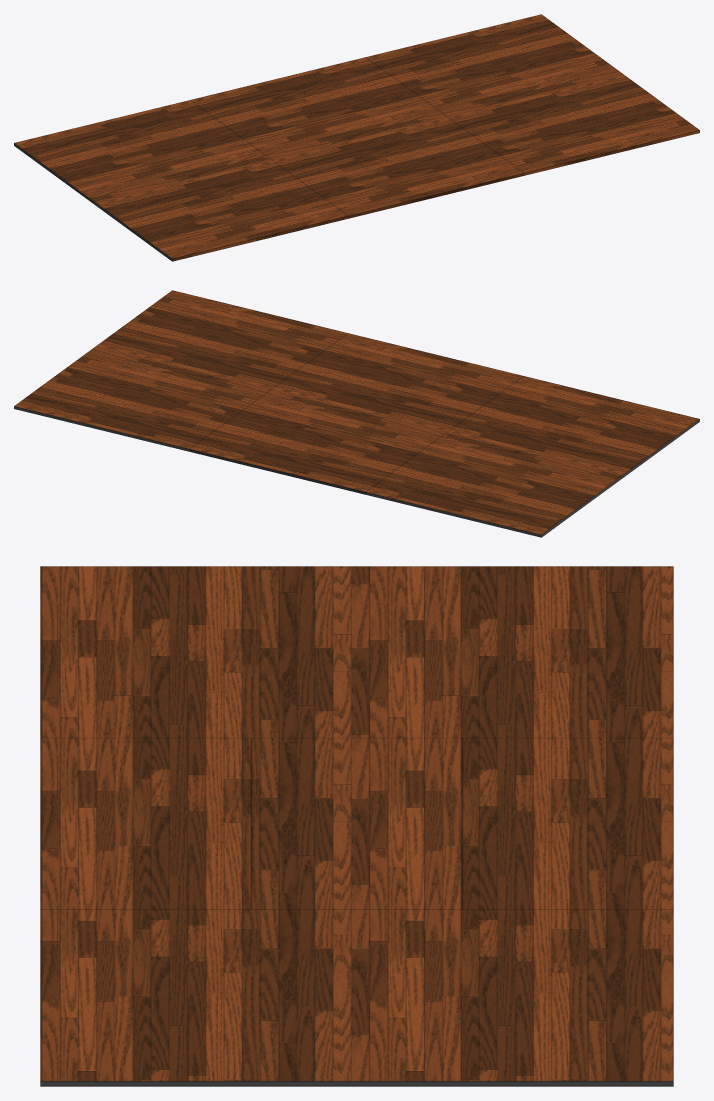
File: Floor.fbx
3 renders of one model, top to bottom at view 1: azimuth 30°, elevation 25°; view 2: azimuth 150°, elevation 25°; view 3: azimuth 270°, elevation 25°, orthographic. The views are drawn at different scales.
Visible parts, largest first — view 1: Ground; view 2: Ground; view 3: Ground.
Part boxes in pixels (x1,y1,x2,y2): Ground: (14, 14, 699, 261); Ground: (14, 290, 699, 537); Ground: (40, 566, 673, 1086).
Bounding box in the file's own units: 89.14 × 0.4457 × 46.35.
